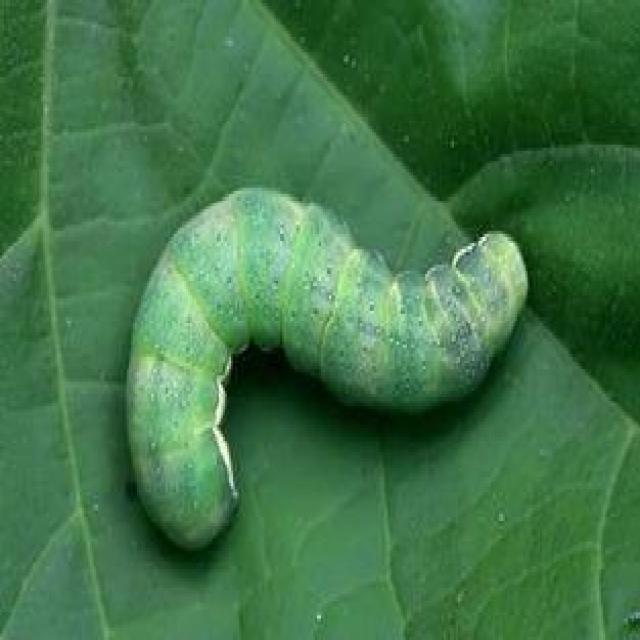BeetArmyWorm-Larva-: (117, 175, 538, 560)
